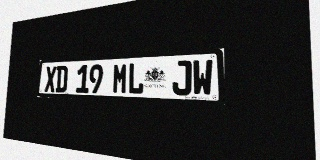1: (76, 65, 90, 93)
9: (89, 64, 103, 93)
D: (55, 66, 68, 92)
J: (172, 60, 192, 96)
L: (127, 62, 144, 94)
M: (112, 63, 128, 94)
W: (192, 59, 213, 96)
X: (44, 66, 56, 92)
